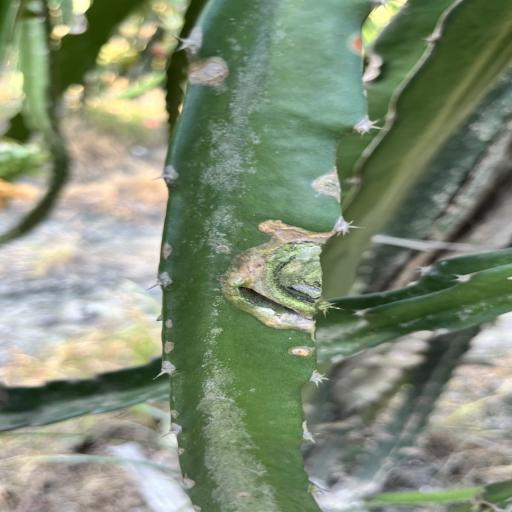stemcanker: (341, 34, 382, 58), (230, 486, 260, 506), (160, 337, 188, 357), (350, 30, 364, 58), (212, 241, 233, 256), (287, 346, 313, 358), (240, 384, 262, 398), (161, 246, 180, 262), (164, 314, 176, 329)
